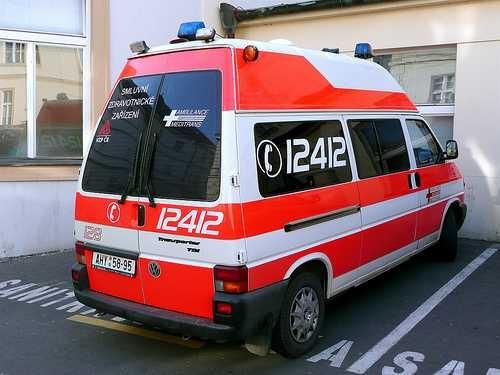car: (69, 15, 467, 358)
